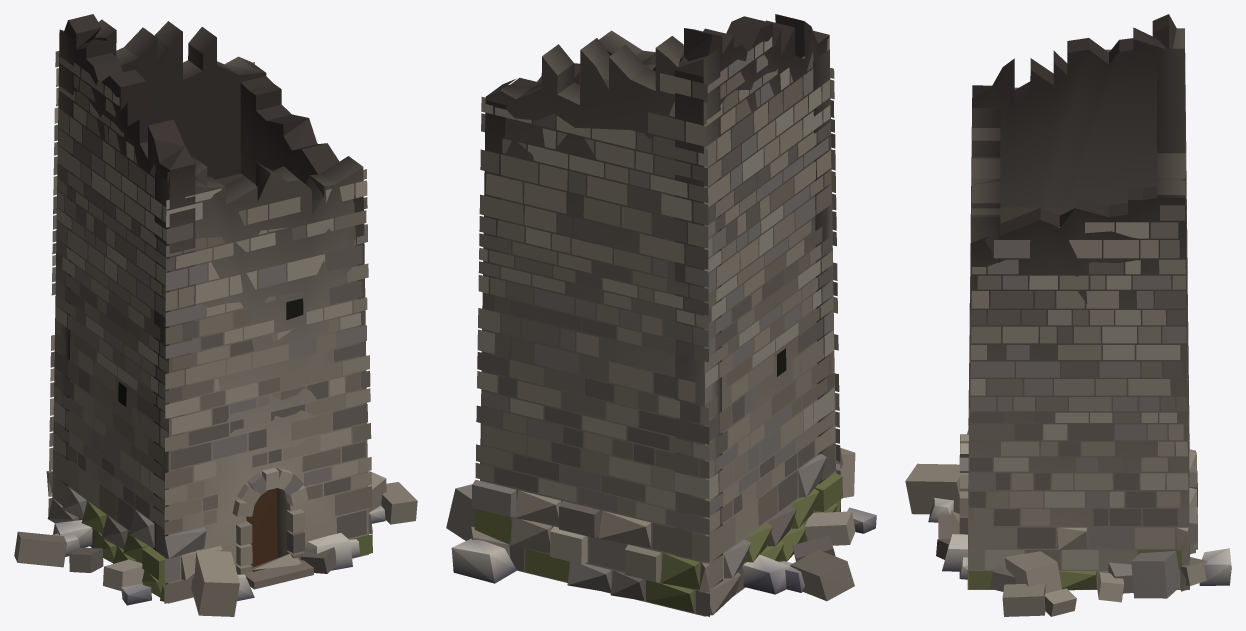
File: mtn_watchtower_ruin-lod1.glb
3 views of the same model, side by side, from view 1: azimuth 30°, elevation 25°; view 2: azimuth 150°, elevation 25°; view 3: azimuth 270°, elevation 25° (orthographic). The views are drawn at different scales.
Parts seen in each view (by area): view 1: mtn_watchtower_ruin; view 2: mtn_watchtower_ruin; view 3: mtn_watchtower_ruin.
Part boxes in pixels (x1,y1,x2,y2): mtn_watchtower_ruin: (14, 14, 417, 616); mtn_watchtower_ruin: (446, 14, 876, 616); mtn_watchtower_ruin: (905, 14, 1231, 616).
Bounding box in the file's own units: 11.26 × 15.41 × 9.39.
